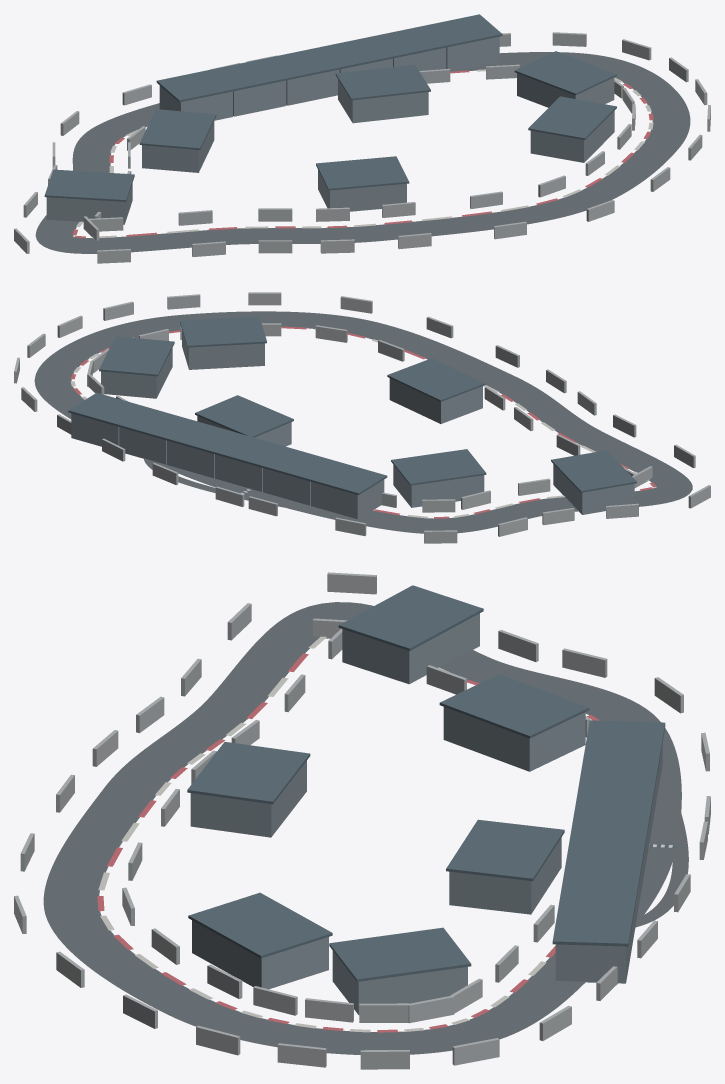
The picture shows the model from 3 angles, top to bottom: view 1: azimuth 30°, elevation 25°; view 2: azimuth 150°, elevation 25°; view 3: azimuth 270°, elevation 25°; orthographic projection. The views are drawn at different scales.
Visible parts, largest first — view 1: asphalt, grandstand_roof_1, grandstand_roof_0, grandstand_roof_3, grandstand_roof_4, grandstand_roof_2, grandstand_roof_5, grandstand_0, grandstand_2, grandstand_3, grandstand_4, grandstand_5 (+29 smaller); view 2: asphalt, grandstand_roof_3, grandstand_roof_5, grandstand_roof_2, grandstand_roof_0, grandstand_roof_4, grandstand_roof_1, grandstand_3, grandstand_2, grandstand_5, pit_building_0, grandstand_4 (+29 smaller); view 3: asphalt, grandstand_roof_5, grandstand_roof_4, grandstand_roof_2, grandstand_roof_1, grandstand_roof_3, grandstand_roof_0, grandstand_5, grandstand_2, grandstand_4, grandstand_3, grandstand_0 (+21 smaller).
Boxes of the visible parts, <box> form: asphalt: <box>35,52,690,253</box>; grandstand_roof_1: <box>514,51,616,95</box>; grandstand_roof_0: <box>335,64,430,100</box>; grandstand_roof_3: <box>316,156,409,190</box>; grandstand_roof_4: <box>44,169,134,201</box>; grandstand_roof_2: <box>528,96,616,139</box>; grandstand_roof_5: <box>139,109,216,149</box>; grandstand_0: <box>338,79,428,123</box>; grandstand_2: <box>530,111,614,162</box>; grandstand_3: <box>318,170,406,211</box>; grandstand_4: <box>46,183,132,224</box>; grandstand_5: <box>142,121,214,172</box>; asphalt: <box>34,311,692,533</box>; grandstand_roof_3: <box>387,358,485,401</box>; grandstand_roof_5: <box>391,449,486,485</box>; grandstand_roof_2: <box>180,316,266,347</box>; grandstand_roof_0: <box>195,395,293,437</box>; grandstand_roof_4: <box>551,450,636,492</box>; grandstand_roof_1: <box>99,336,174,376</box>; grandstand_3: <box>389,378,482,423</box>; grandstand_2: <box>182,330,264,369</box>; grandstand_5: <box>393,465,484,507</box>; pit_building_0: <box>311,479,384,519</box>; grandstand_4: <box>553,464,634,514</box>; asphalt: <box>43,602,681,1054</box>; grandstand_roof_5: <box>439,674,589,738</box>; grandstand_roof_4: <box>338,585,483,650</box>; grandstand_roof_2: <box>188,892,332,958</box>; grandstand_roof_1: <box>329,927,471,981</box>; grandstand_roof_3: <box>187,742,310,804</box>; grandstand_roof_0: <box>446,819,564,881</box>; grandstand_5: <box>443,707,585,771</box>; grandstand_2: <box>192,920,328,989</box>; grandstand_4: <box>342,613,479,684</box>; grandstand_3: <box>190,761,306,837</box>; grandstand_0: <box>449,837,561,914</box>.
Size of the model in its own units: 64.24 by 2.64 by 39.46.
